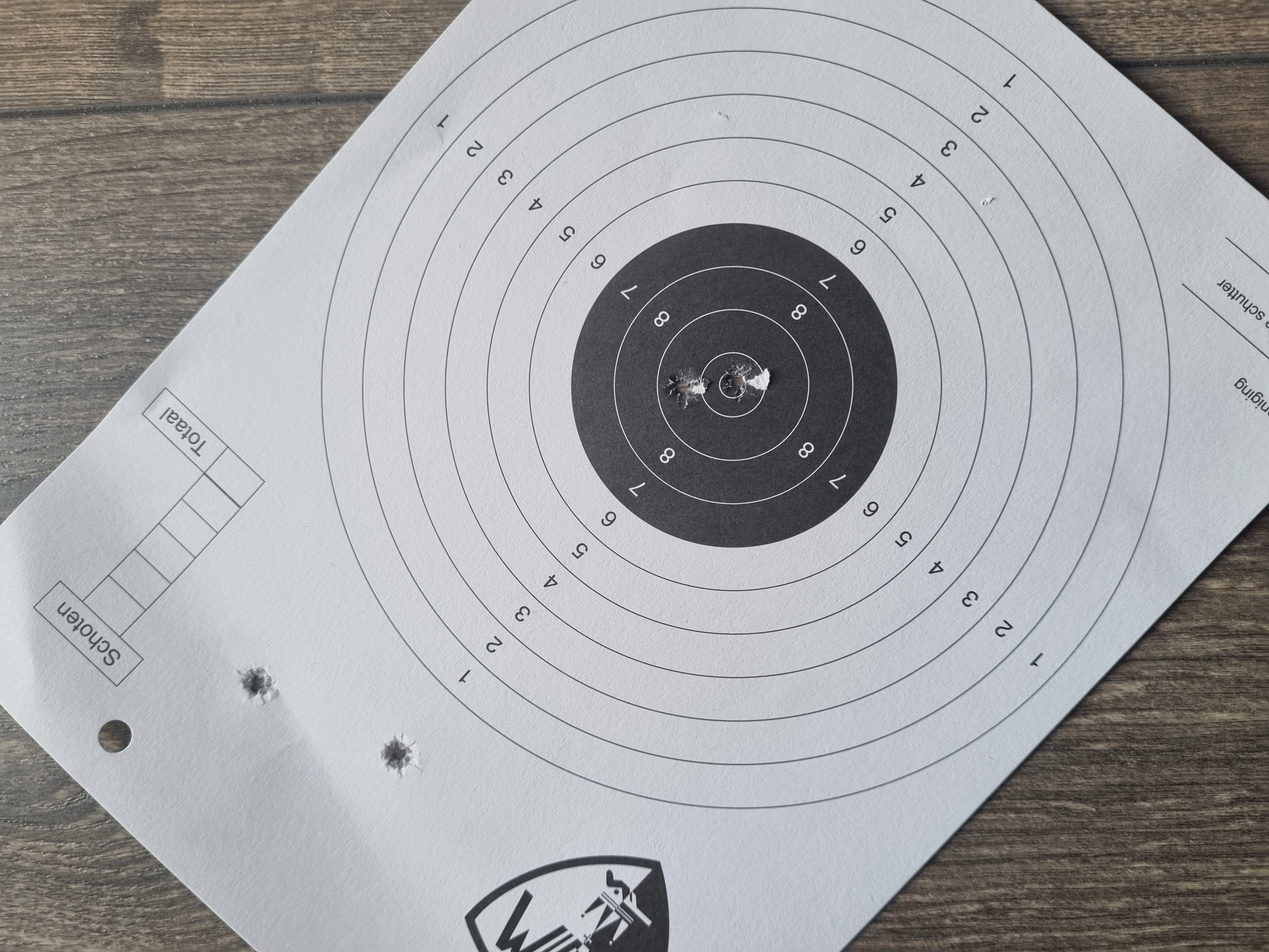hole: (723, 496, 780, 531), (231, 285, 291, 317), (329, 178, 385, 209), (733, 541, 791, 569)
